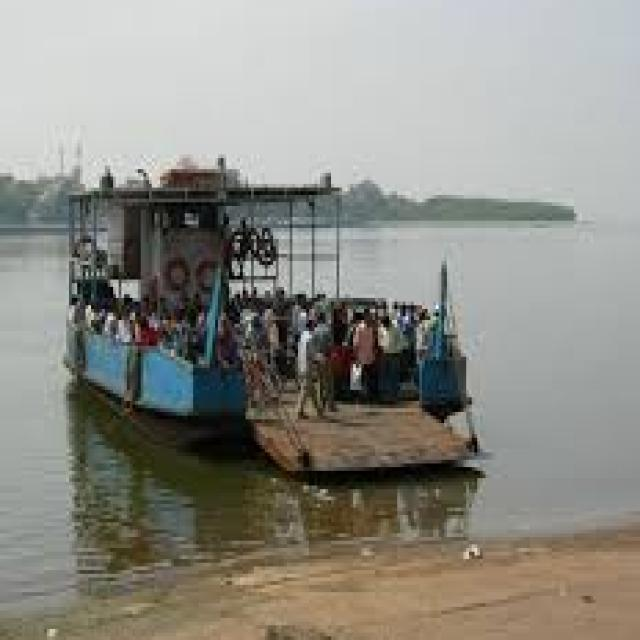passenger ship: (64, 127, 470, 433)
